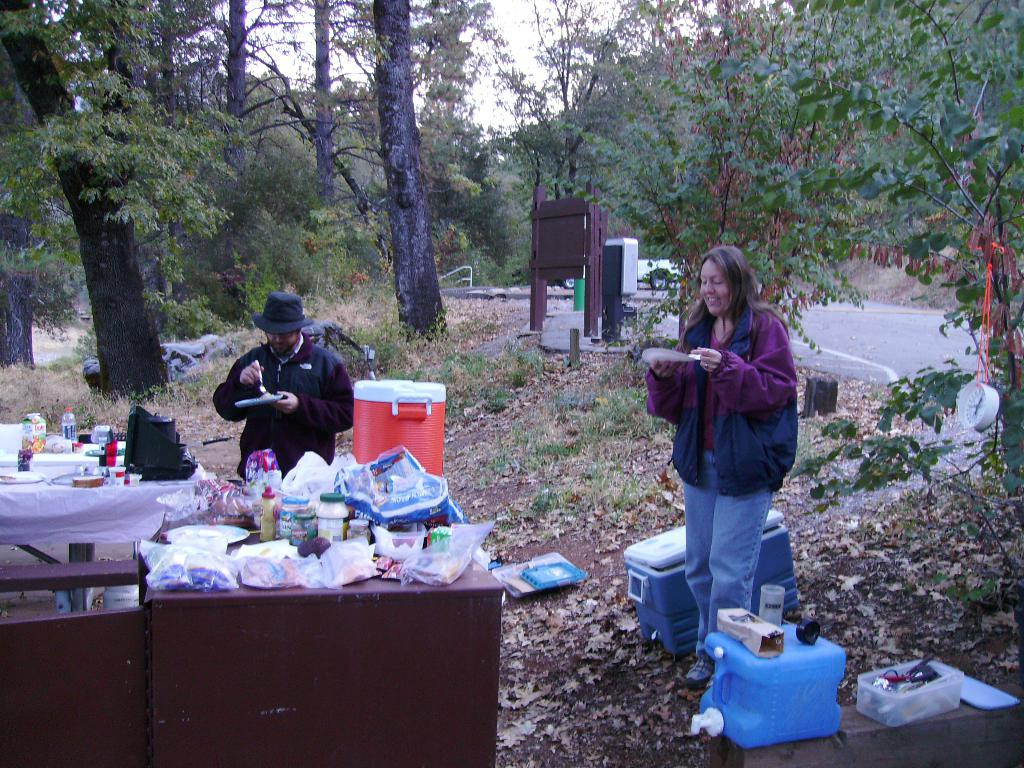Tree: (0, 0, 1023, 628), (2, 53, 255, 412)
